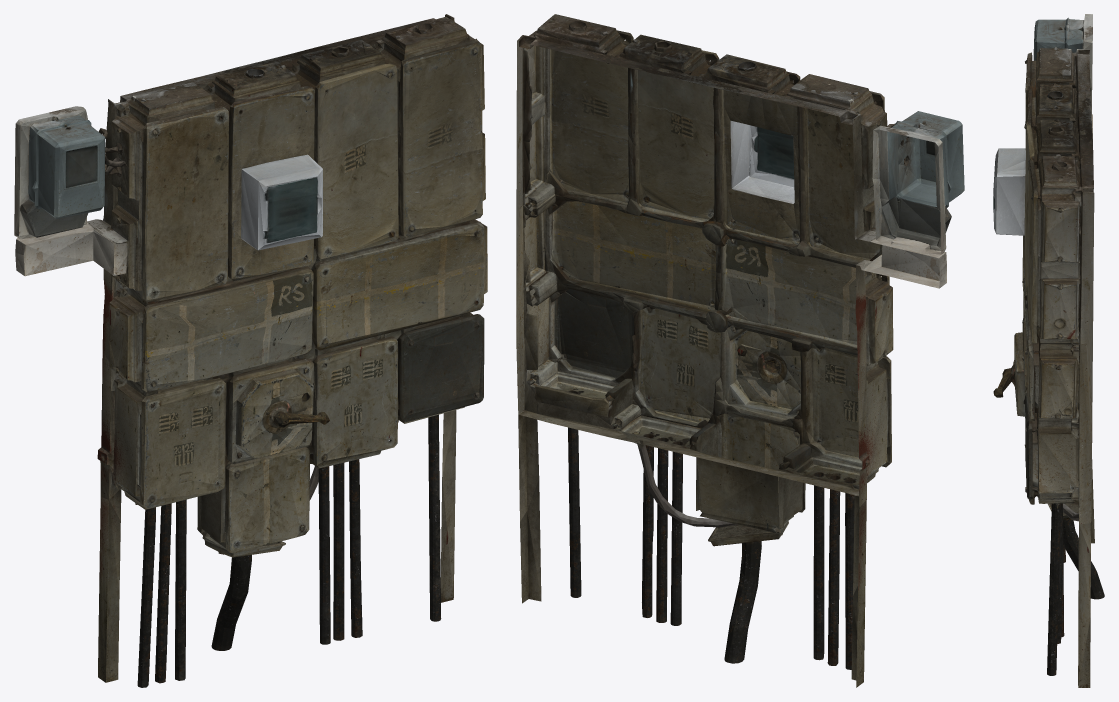
File: Electric_Box_LOD1.fbx
The picture shows the model from 3 angles, left to right: view 1: azimuth 30°, elevation 25°; view 2: azimuth 150°, elevation 25°; view 3: azimuth 270°, elevation 25°; orthographic projection. The views are drawn at different scales.
Parts seen in each view (by area): view 1: box_LOD1; view 2: box_LOD1; view 3: box_LOD1.
Part boxes in pixels (x1,y1,x2,y2): box_LOD1: (14,14,487,687); box_LOD1: (516,14,964,687); box_LOD1: (993,14,1104,687).
Bounding box in the file's own units: 129 × 163 × 32.5.
